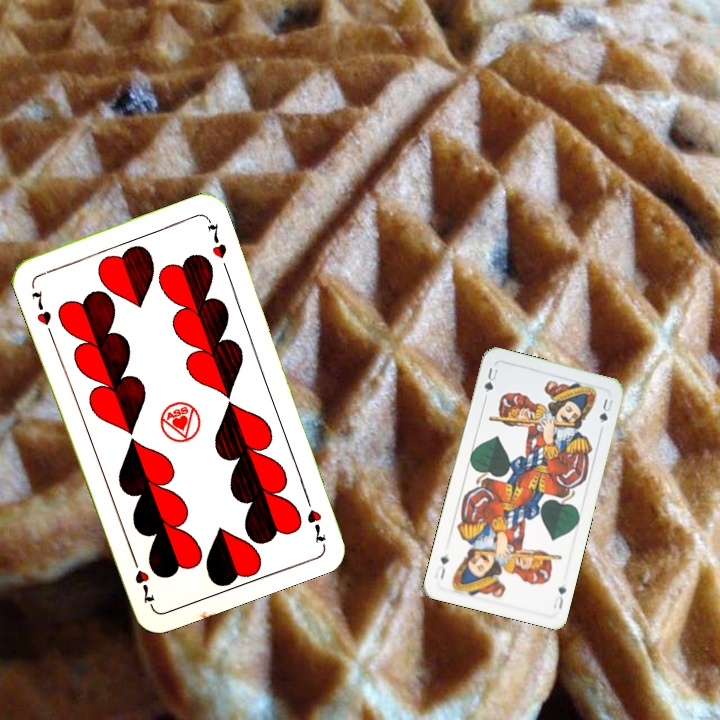GU: (480, 364, 500, 395), (549, 582, 569, 612)
H7: (300, 490, 329, 546), (27, 286, 55, 338)
